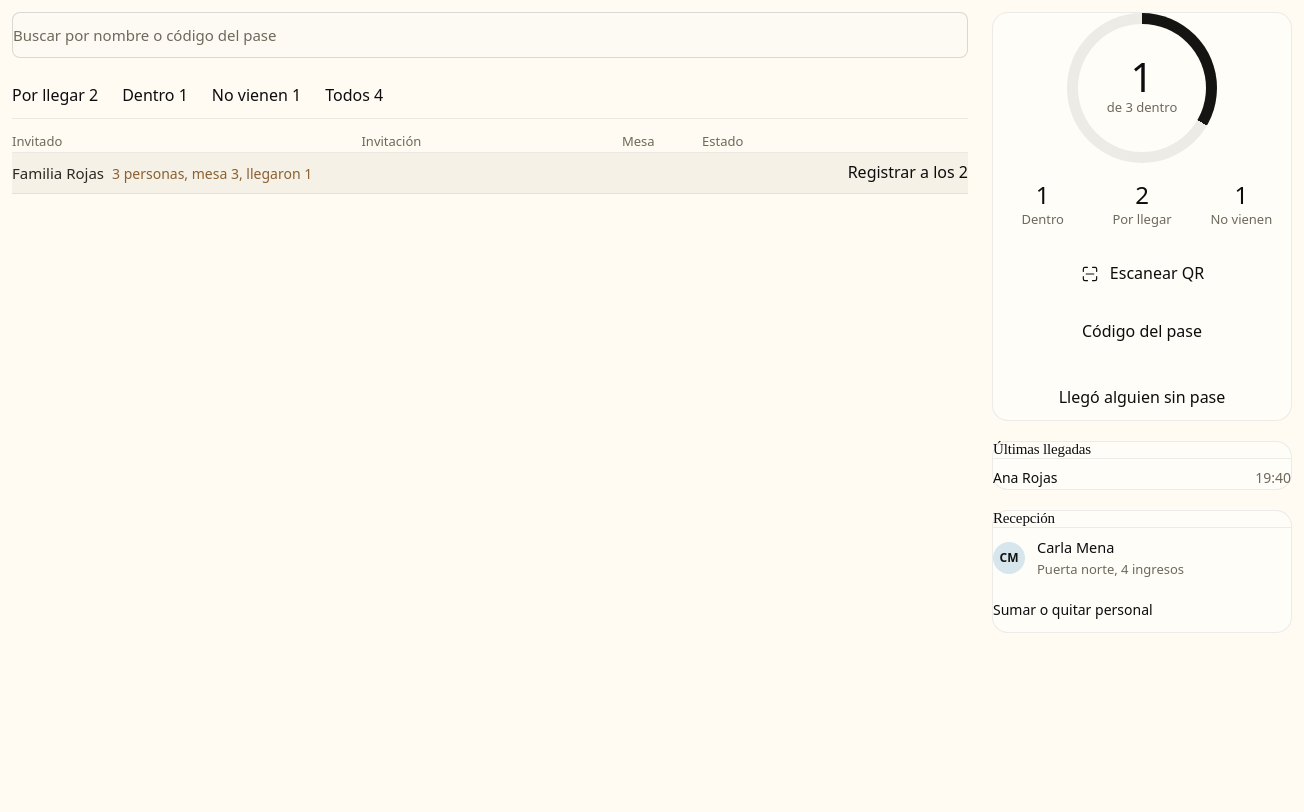
Test: ControlDeIngreso › buscar encuentra en todas las listas, y el VIP se ve
This screenshot has width=1304, height=812.
Type "ana" into the search field named "Buscar invitado" at (490, 35), box [12,12,968,58]
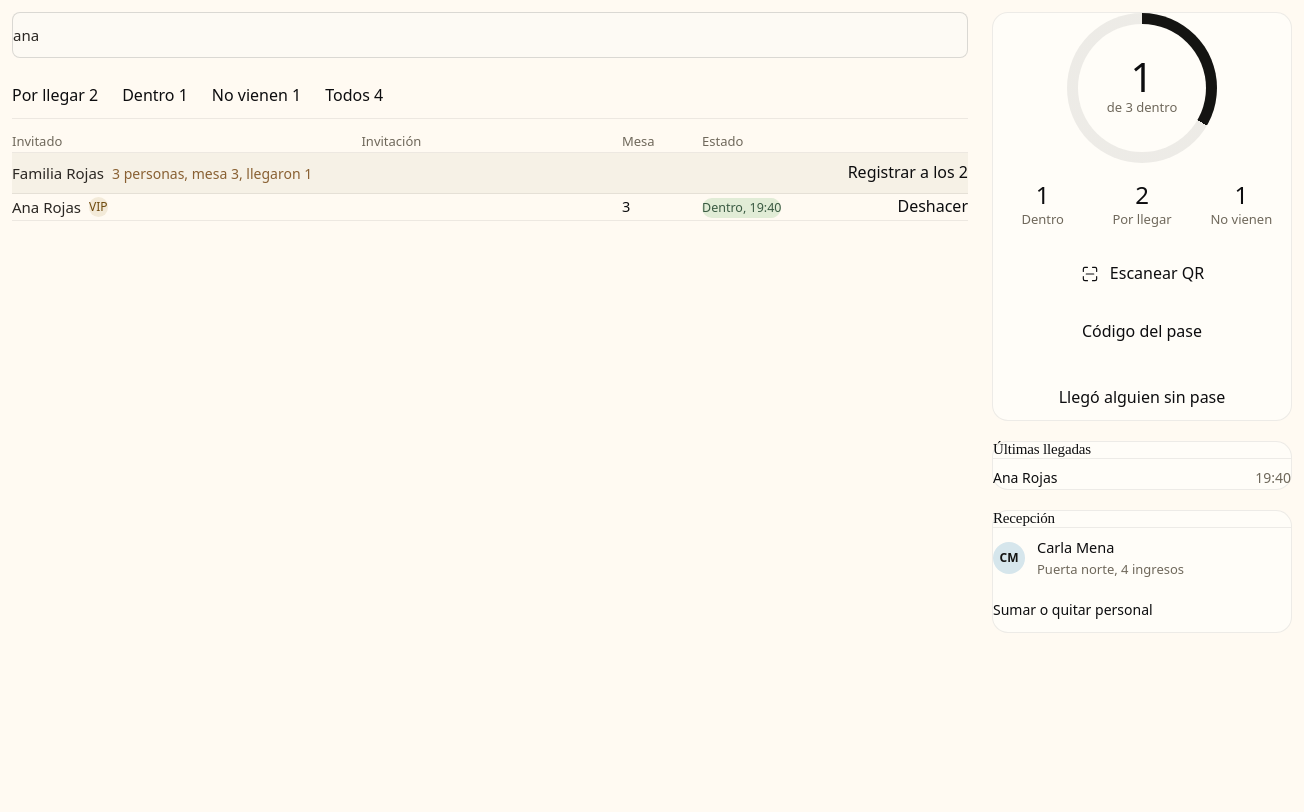
Now the row "Ana Rojas" shows "Dentro, 19:40", box [702,199,782,216]
Now the text "VIP" is shown, box [89,197,108,217]
